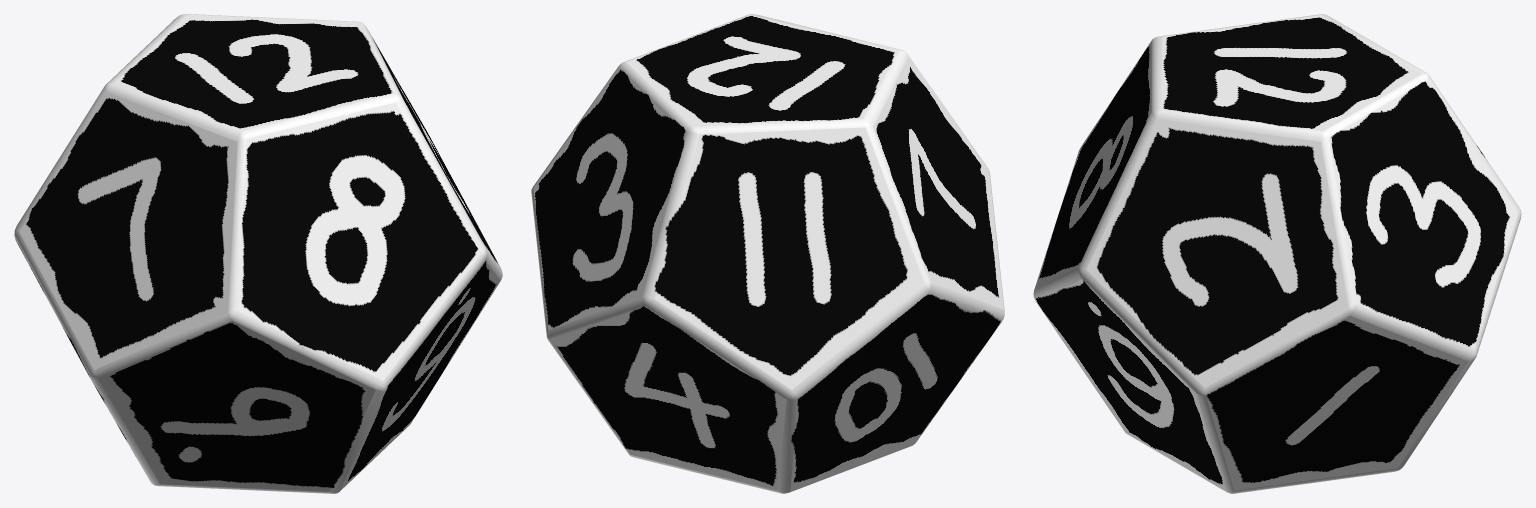
3 views of the same model, side by side, from view 1: azimuth 30°, elevation 25°; view 2: azimuth 150°, elevation 25°; view 3: azimuth 270°, elevation 25° (orthographic). The views are drawn at different scales.
Parts seen in each view (by area): view 1: d12-bev-rigid; view 2: d12-bev-rigid; view 3: d12-bev-rigid.
Part boxes in pixels (left/top/right/bottom): d12-bev-rigid: left=14, top=14, right=502, bottom=493; d12-bev-rigid: left=531, top=14, right=1004, bottom=493; d12-bev-rigid: left=1033, top=14, right=1521, bottom=493.
Bounding box in the file's own units: 1.98 × 1.7 × 2.08.
1 material, 1 textured.
